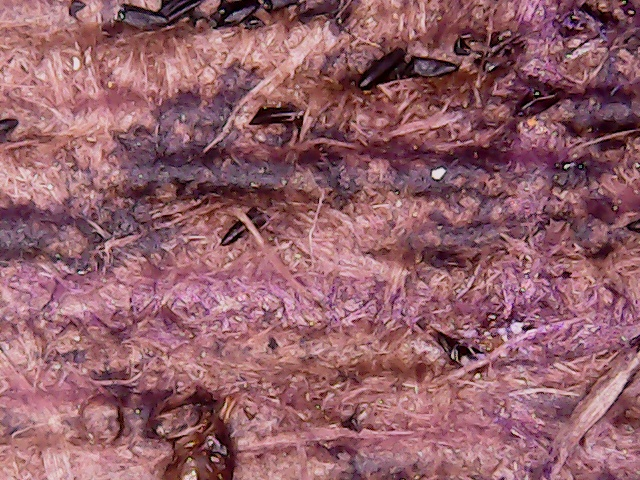full: (357, 45, 408, 95), (219, 201, 272, 248), (111, 1, 168, 37), (250, 102, 311, 132), (410, 52, 464, 85), (212, 1, 266, 33)
